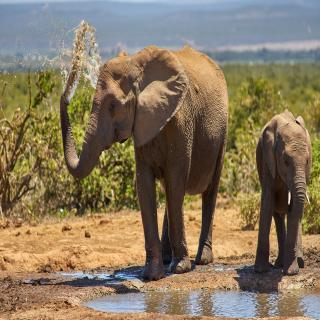Elephant: (55, 42, 232, 284), (252, 106, 314, 277)
